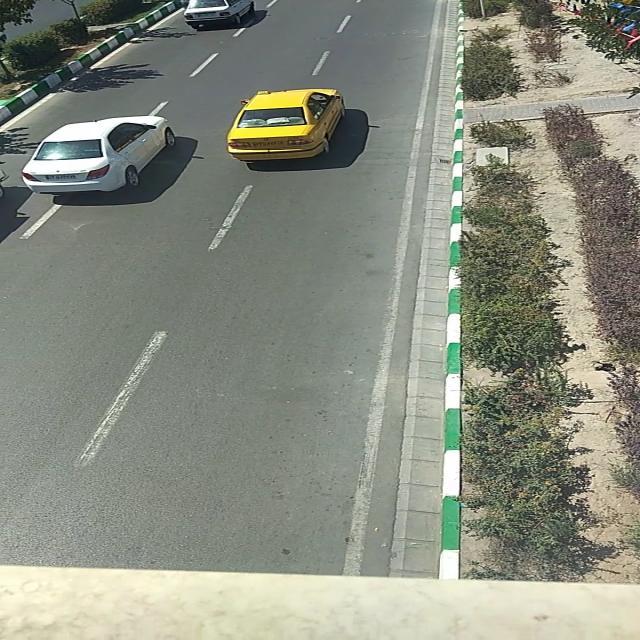car: (22, 114, 175, 195), (228, 87, 346, 163), (183, 1, 256, 29)
